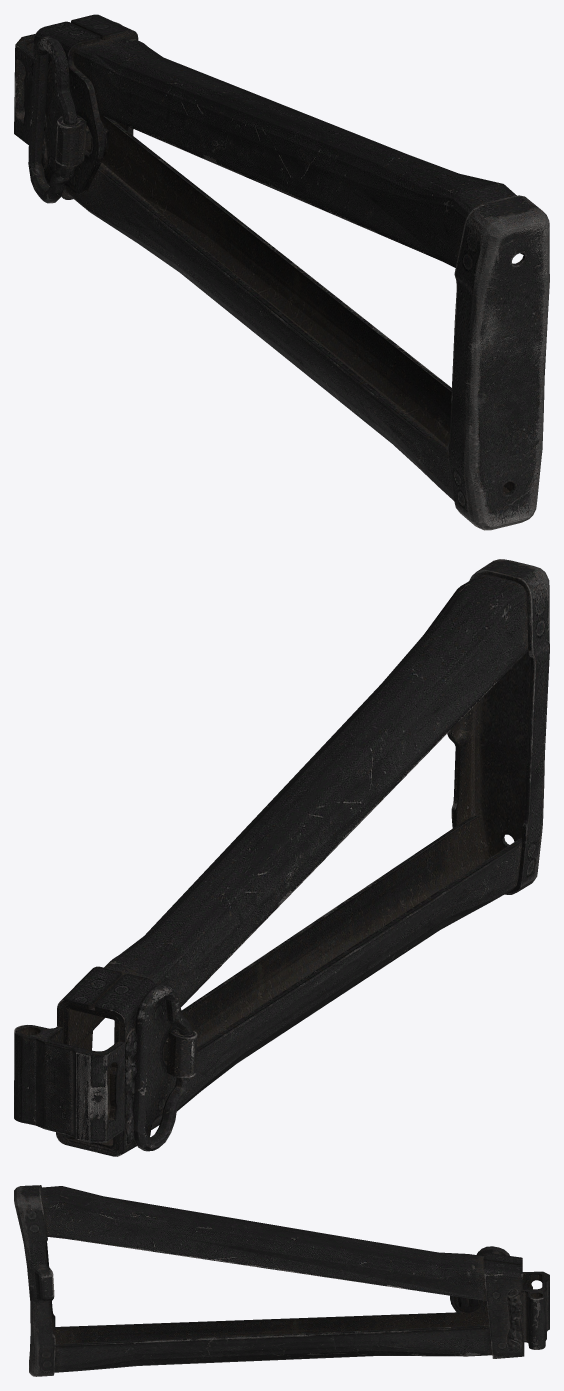
The picture shows the model from 3 angles, top to bottom: view 1: azimuth 30°, elevation 25°; view 2: azimuth 150°, elevation 25°; view 3: azimuth 270°, elevation 25°; orthographic projection. The views are drawn at different scales.
Visible parts, largest first — view 1: TW_6386300124a1dc425c00577a_PZ_Import; view 2: TW_6386300124a1dc425c00577a_PZ_Import; view 3: TW_6386300124a1dc425c00577a_PZ_Import.
Part boxes in pixels (x1,y1,x2,y2): TW_6386300124a1dc425c00577a_PZ_Import: [14, 14, 549, 530]; TW_6386300124a1dc425c00577a_PZ_Import: [14, 559, 549, 1156]; TW_6386300124a1dc425c00577a_PZ_Import: [14, 1185, 549, 1376].
Size of the model in its own units: 0.022 by 0.1456 by 0.0544.
1 material, 1 textured.
